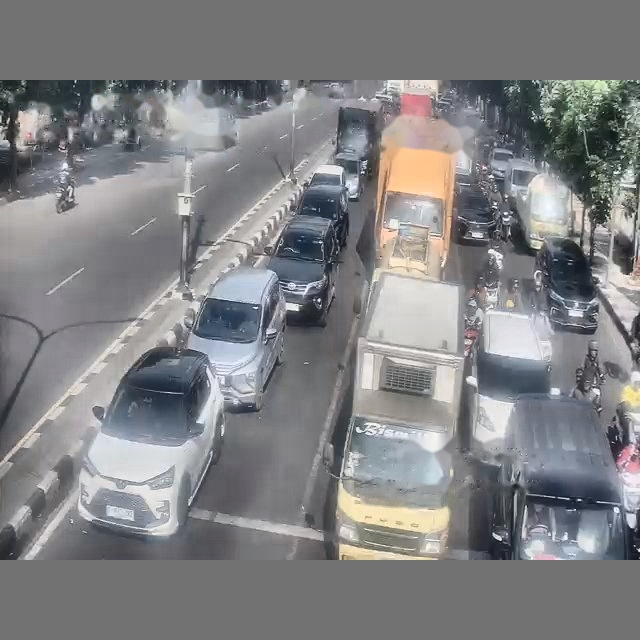Mobil: (77, 347, 224, 536), (491, 394, 630, 559), (185, 266, 285, 410), (466, 310, 550, 463), (265, 215, 339, 326), (535, 236, 599, 332), (296, 184, 349, 248), (455, 186, 496, 242), (334, 153, 363, 200), (307, 164, 346, 188), (489, 147, 514, 180), (328, 82, 344, 98)
Motor: (55, 184, 74, 213)
Truk: (335, 269, 464, 559)
